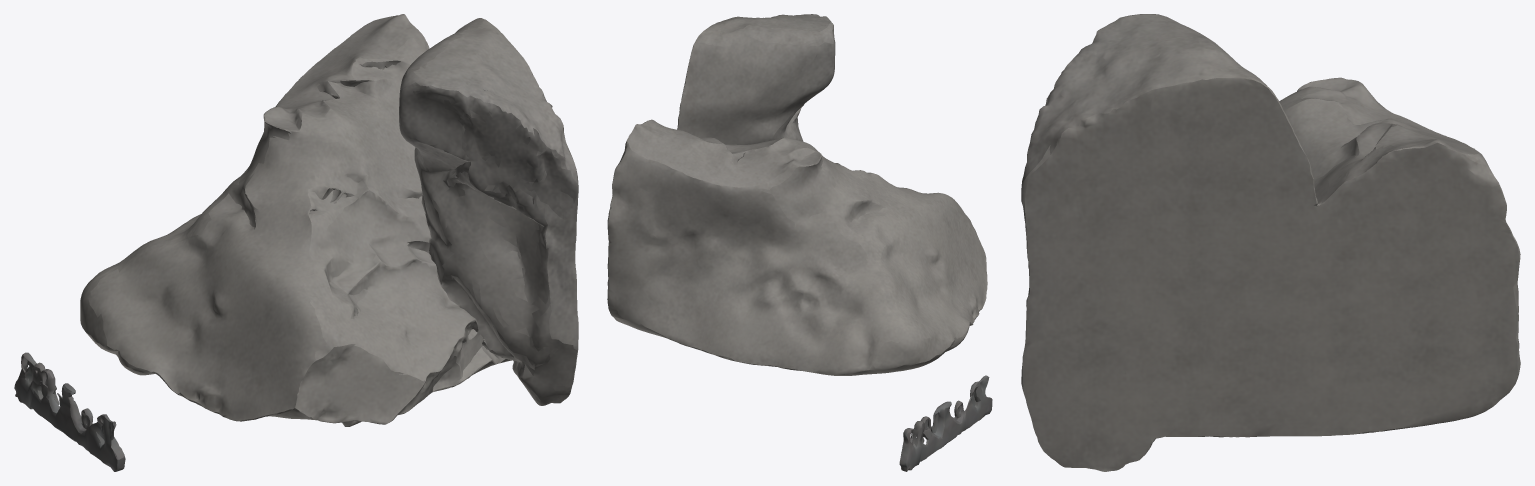
3 views of the same model, side by side, from view 1: azimuth 30°, elevation 25°; view 2: azimuth 150°, elevation 25°; view 3: azimuth 270°, elevation 25° (orthographic). The views are drawn at different scales.
Parts seen in each view (by area): view 1: world; view 2: world; view 3: world.
Boxes of the visible parts, <box> form: world: <box>14,14,578,471</box>; world: <box>607,14,992,471</box>; world: <box>1021,14,1520,471</box>.
Size of the model in its own units: 0.35 by 0.3482 by 0.3508.
1 material, 1 textured.
